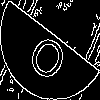O: (25, 25, 74, 84)
